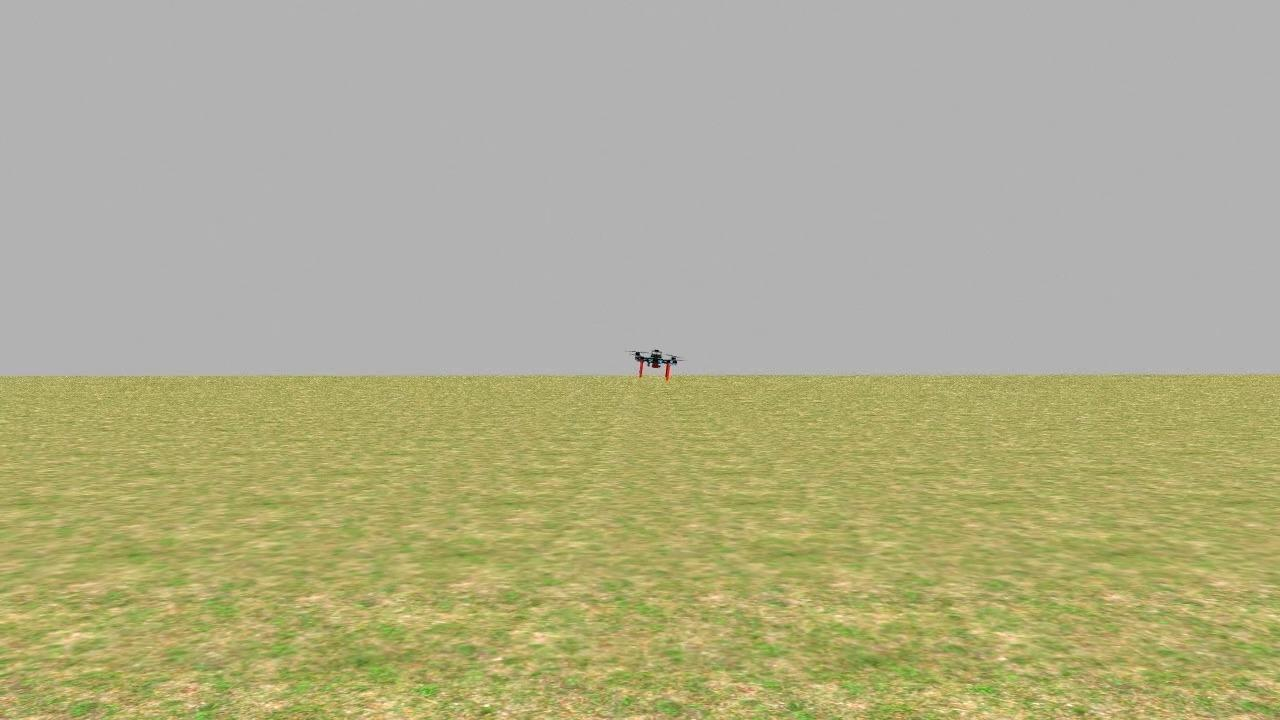UAV: (614, 341, 690, 388)
